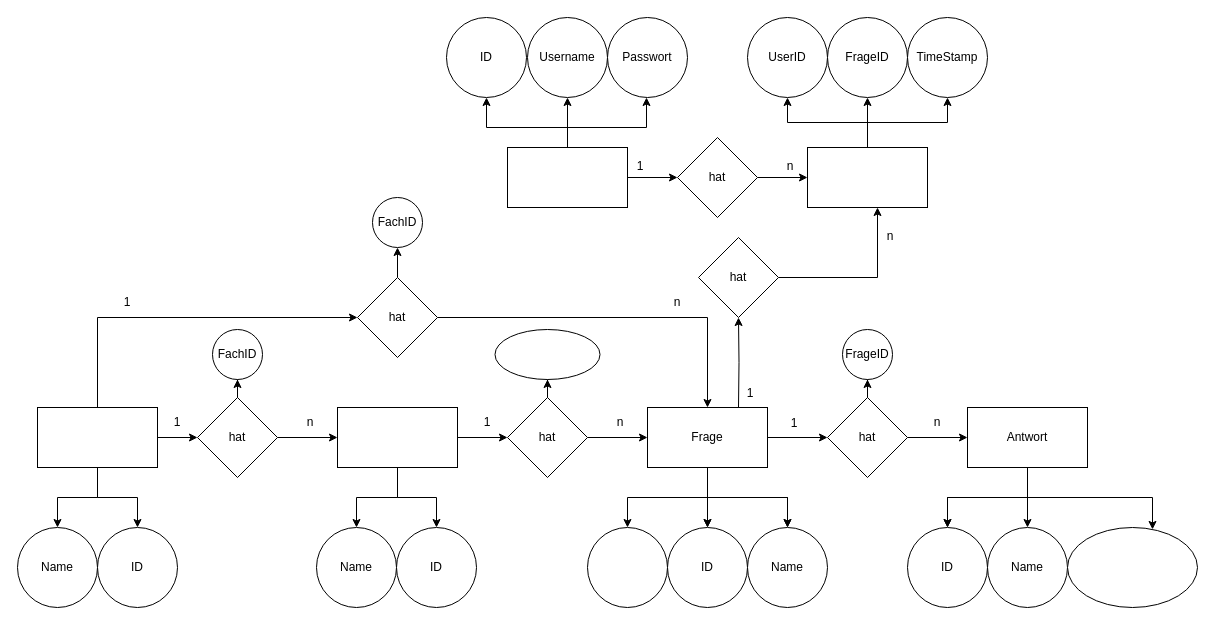
This 1215x625 diagram has some shape labels left out. Here are the shapes that lost their labels. From the top down, the centre of each, then its label:
(x=567, y=177): User
(x=867, y=177): User_Fragen
(x=547, y=354): ThemengebietID
(x=97, y=437): Fach
(x=397, y=437): Themengebiet
(x=627, y=567): Punkte
(x=1132, y=567): Frage Richtig oder Falsch Boolean: True/False
